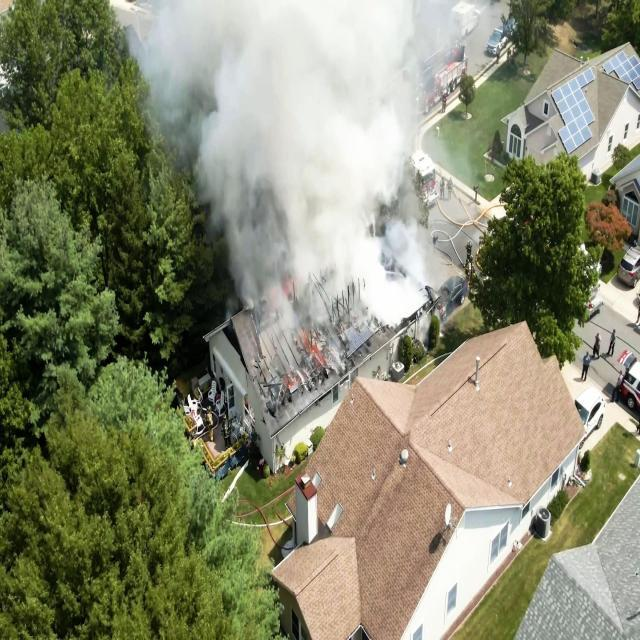Smoke: (204, 0, 368, 215)
